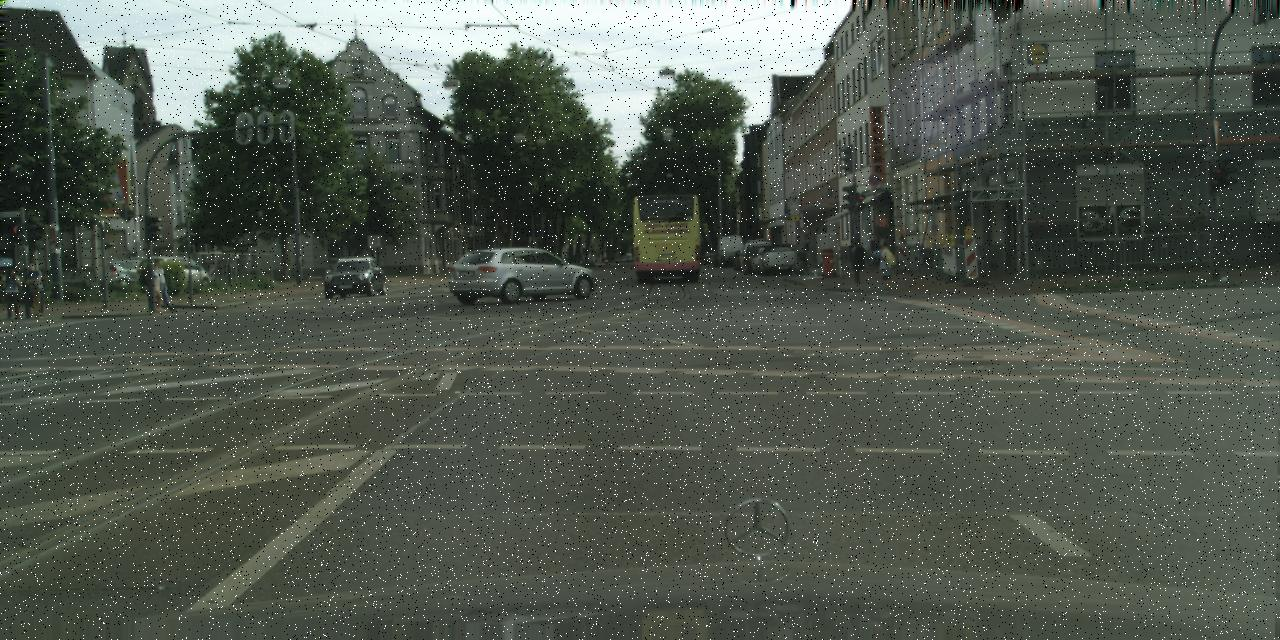ped: (24, 264, 47, 318), (150, 260, 170, 310), (144, 261, 164, 310), (2, 269, 22, 318), (875, 241, 895, 290)
